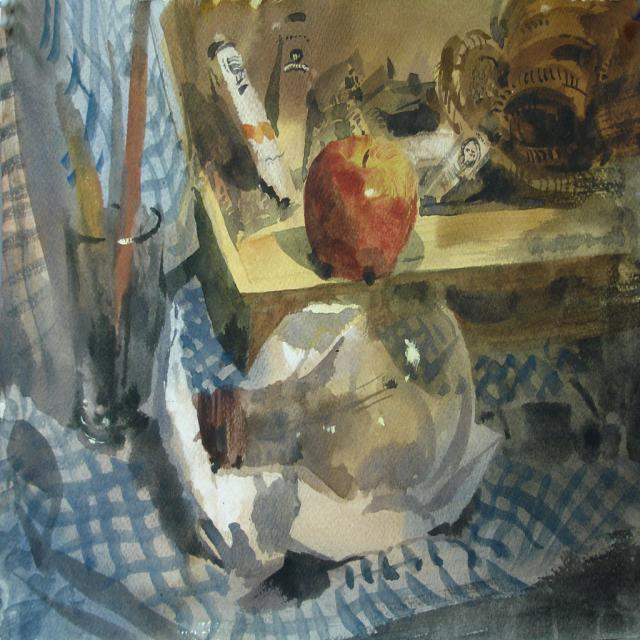Apple pie: (304, 118, 414, 274)
